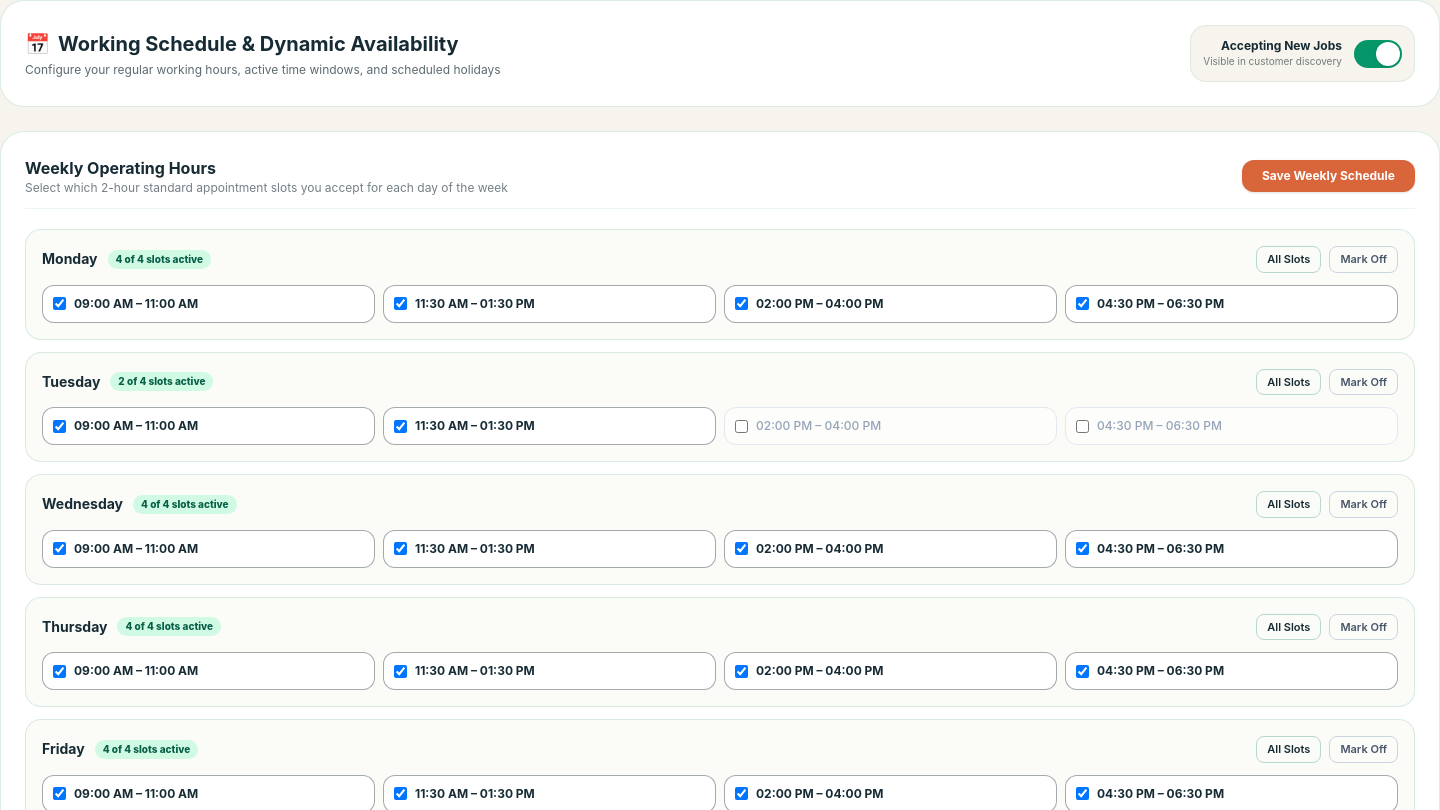
Test case: ProviderScheduleView Component › saves updated weekly schedule to the backend
The width and height of the screenshot is (1440, 810).
Expected: the heading "Weekly Operating Hours" is shown, [25,158,216,178]
Click the button "Save Weekly Schedule" at (1328, 176), box [1242,160,1415,192]
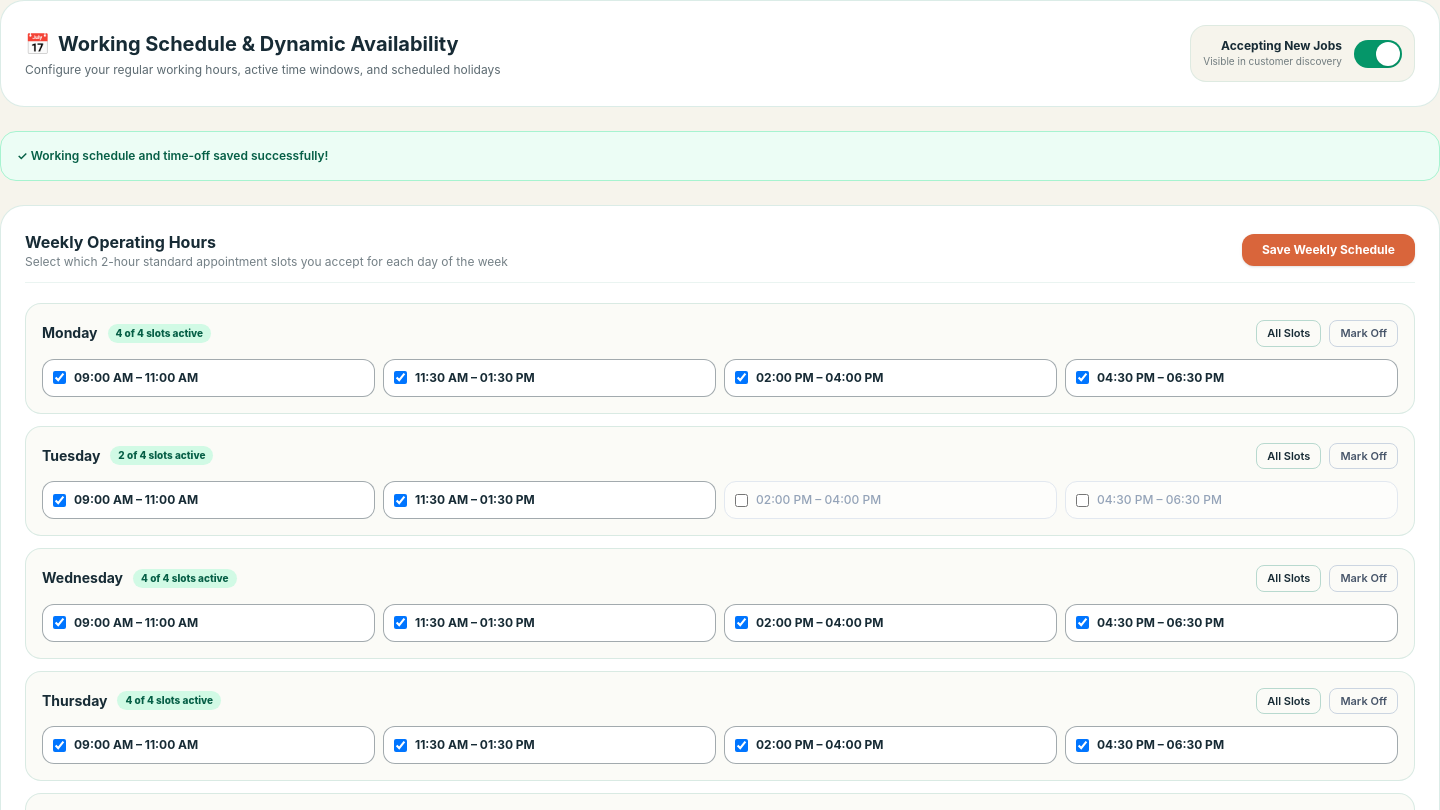
Expected: the text "✓ Working schedule and time-off saved successfully!" is shown, [0,131,1439,181]
